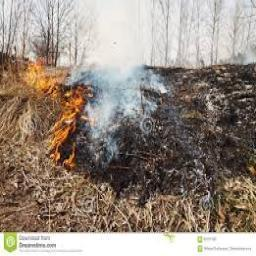Low smoke: (63, 0, 174, 172)
Small fire: (6, 58, 116, 177)
